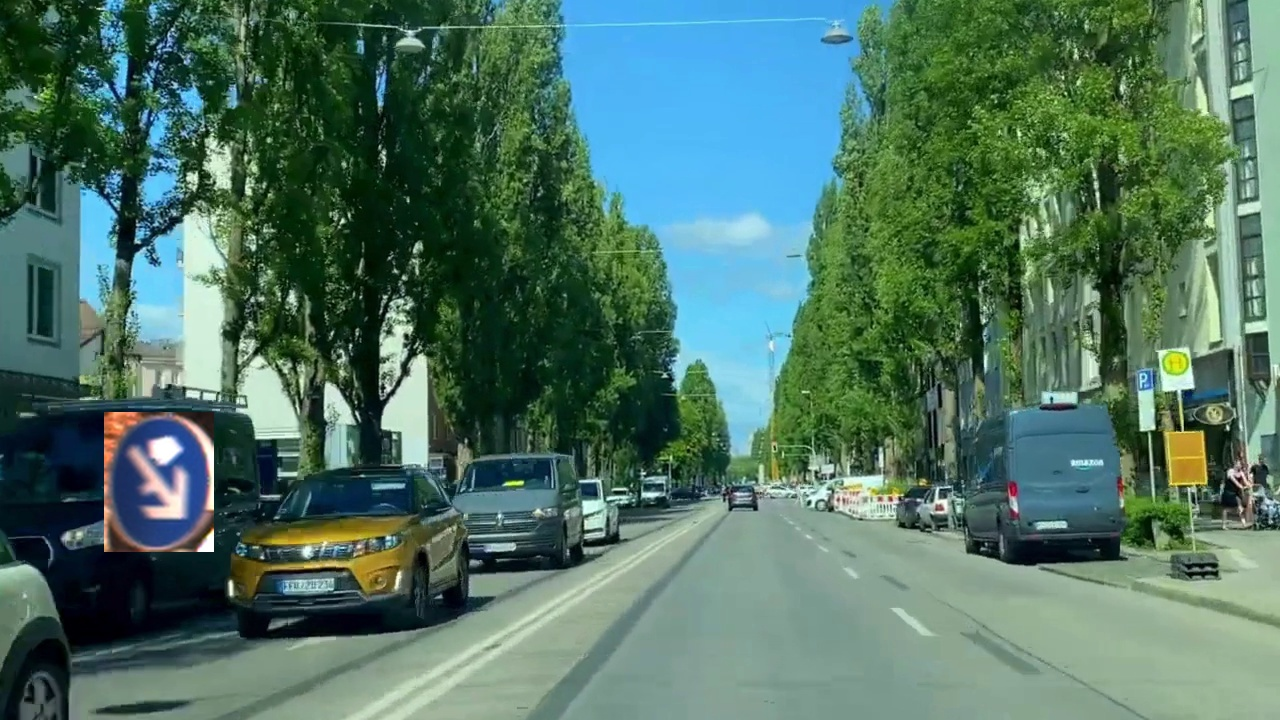Keep right: (104, 412, 214, 552)
